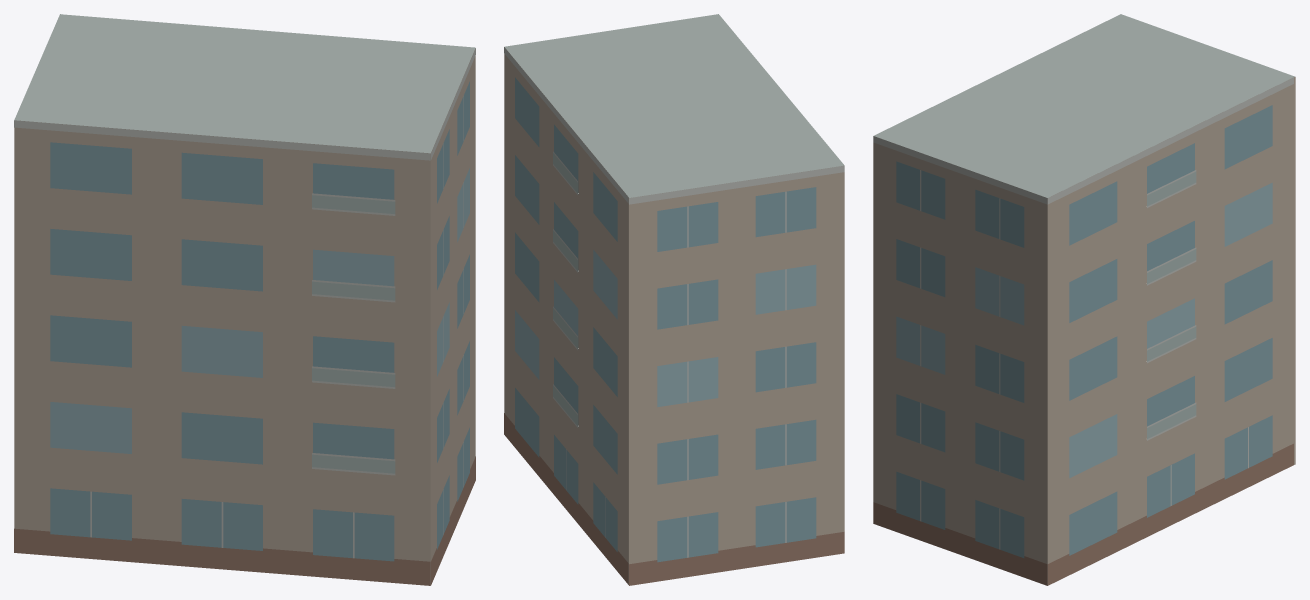
The model's file is survey-upis-32609620.glb.
3 renders of one model, left to right at view 1: azimuth 30°, elevation 25°; view 2: azimuth 150°, elevation 25°; view 3: azimuth 270°, elevation 25°, orthographic. The views are drawn at different scales.
Visible parts, largest first — view 1: survey-upis-32609620.tmp; view 2: survey-upis-32609620.tmp; view 3: survey-upis-32609620.tmp.
Part boxes in pixels (x1,y1,x2,y2): survey-upis-32609620.tmp: [14, 14, 475, 585]; survey-upis-32609620.tmp: [504, 14, 844, 585]; survey-upis-32609620.tmp: [873, 14, 1295, 585].
Bounding box in the file's own units: 14.72 × 14.45 × 14.27.
